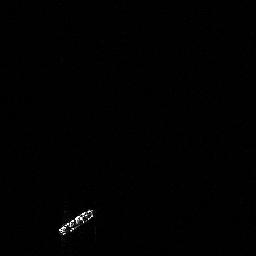ship: (57, 207, 95, 240)
